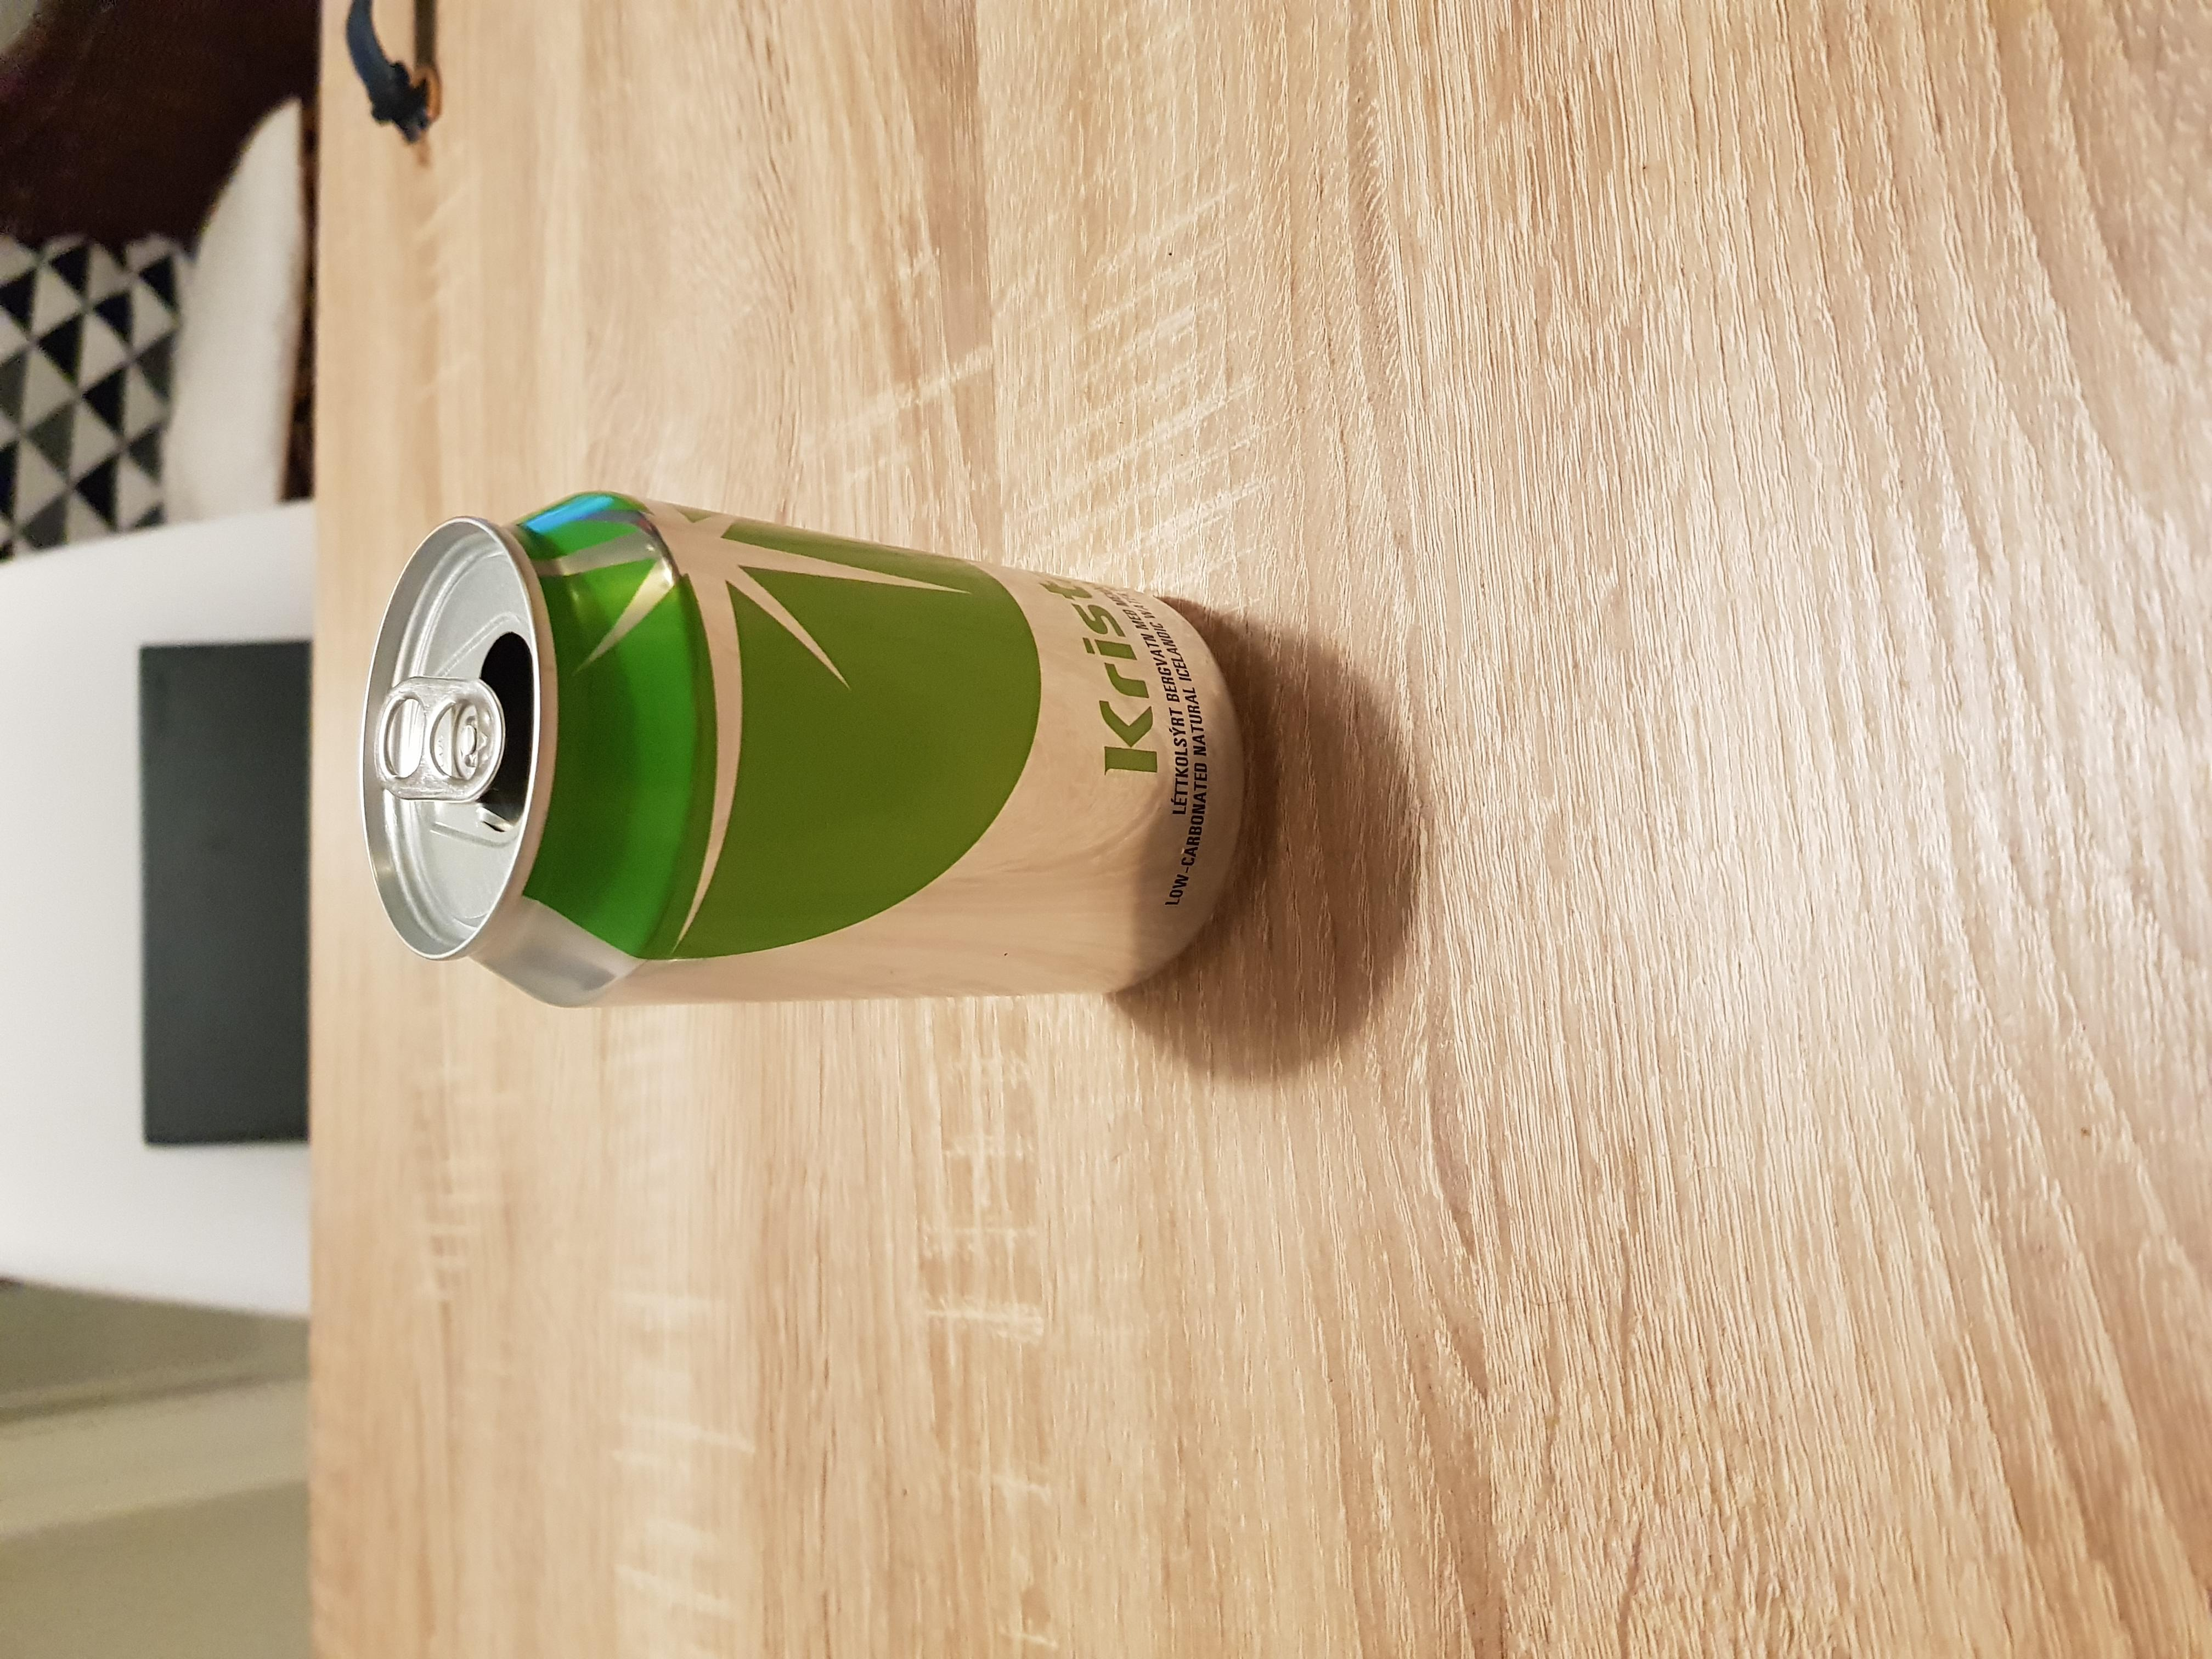can: (347, 481, 1261, 1009)
